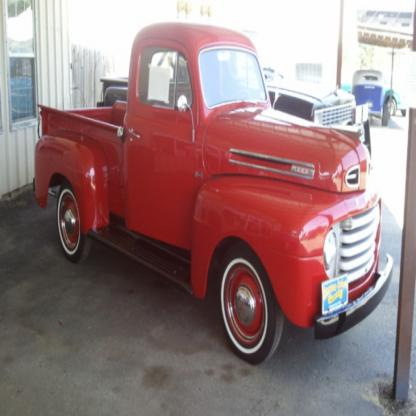Truck: (34, 23, 394, 366)
